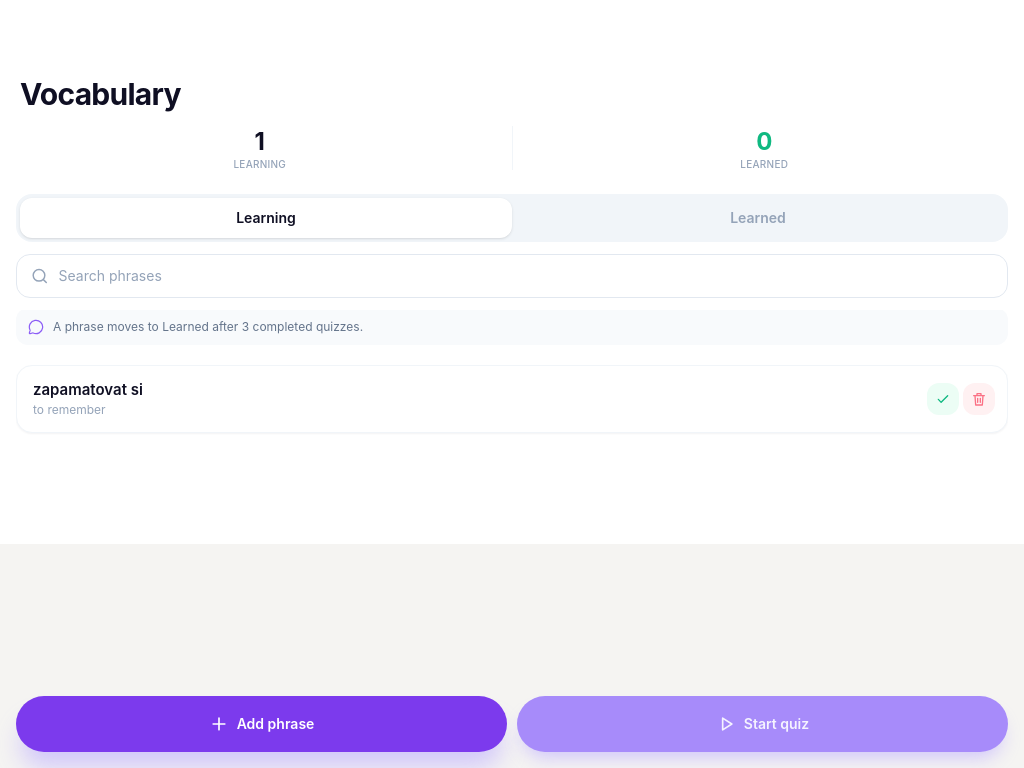
VocabularyScreen › uses the Learned destination for the Czech two-stage flow
This screenshot has width=1024, height=768.
Click the button named "Mark 'zapamatovat si' as learned".
click(943, 399)  # box [927, 383, 959, 415]
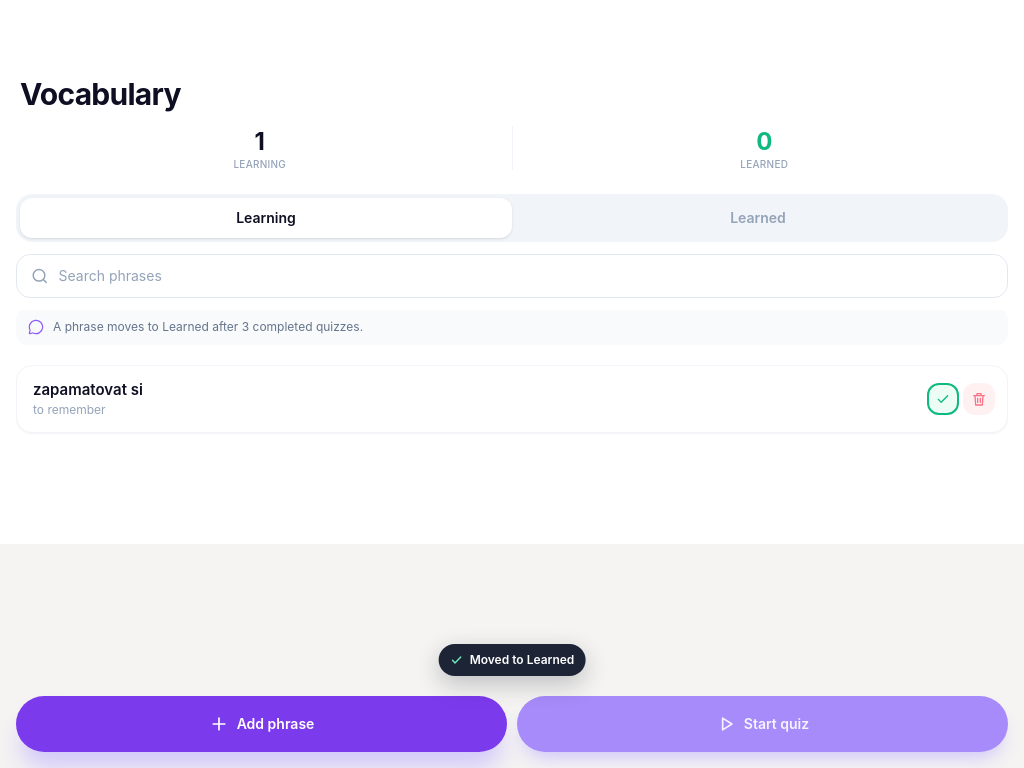
Expected: the message reads "Moved to Learned", [470, 652, 574, 667]
